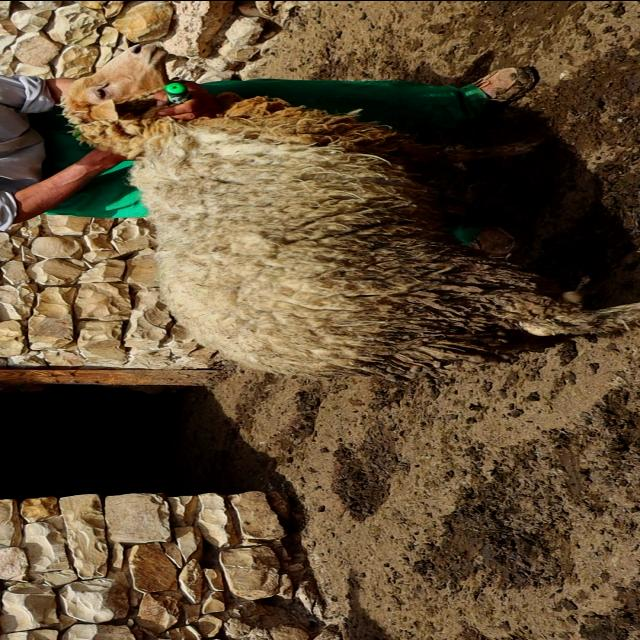Score_2: (60, 43, 639, 382)
